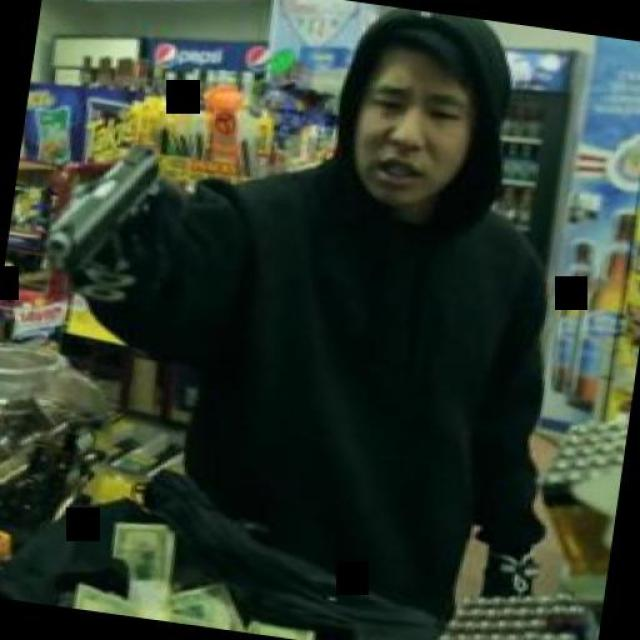gun: (29, 128, 188, 282)
